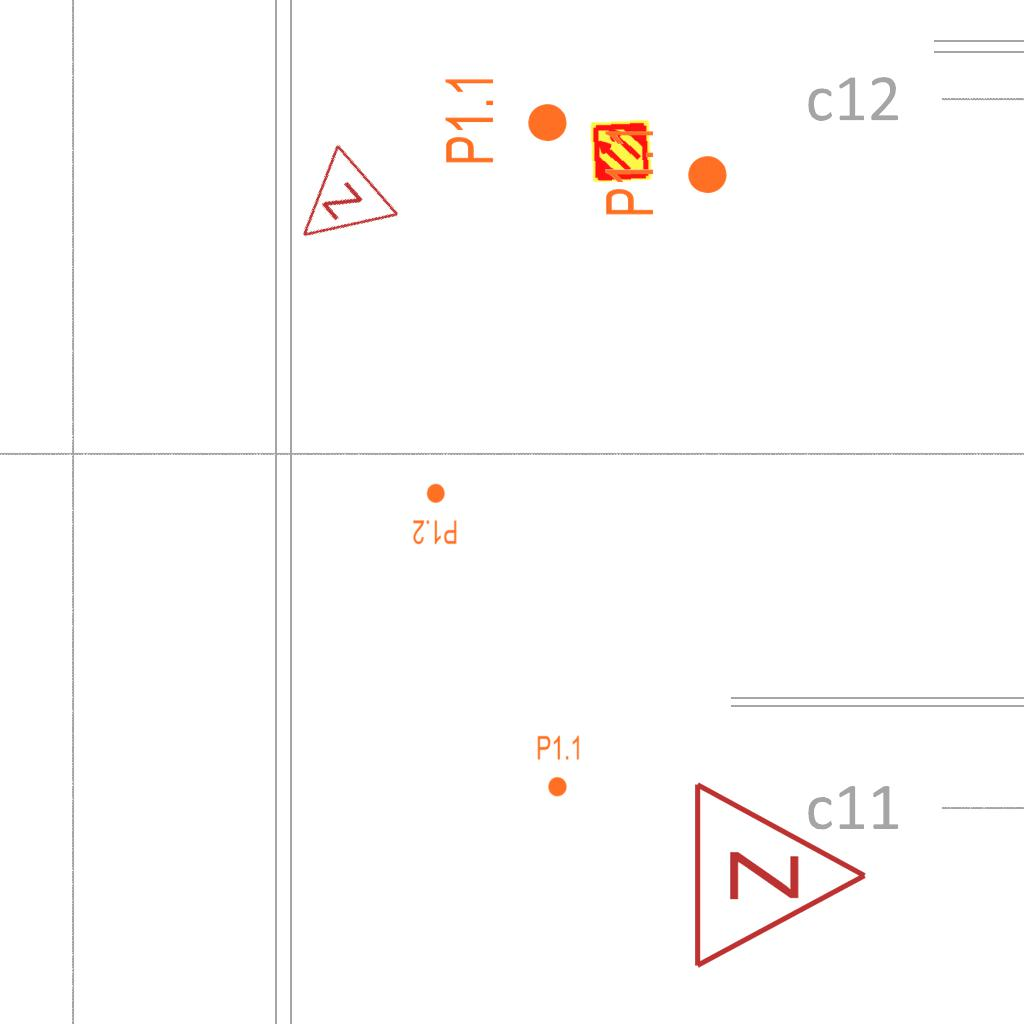ASR_Ansaugrauchmelder: (588, 118, 654, 184)
Downlight_LED_Einbauleuchten_Flur: (442, 73, 570, 166), (602, 125, 730, 218), (536, 734, 582, 798), (412, 482, 458, 546)
Zimmersignalleuchte: (680, 775, 880, 971), (267, 138, 407, 278)
